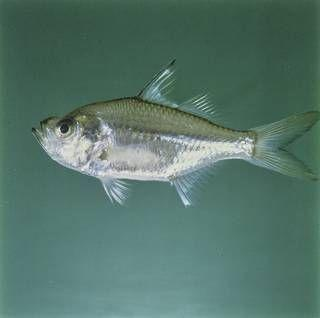Glass Perchlet: (33, 59, 320, 210)
